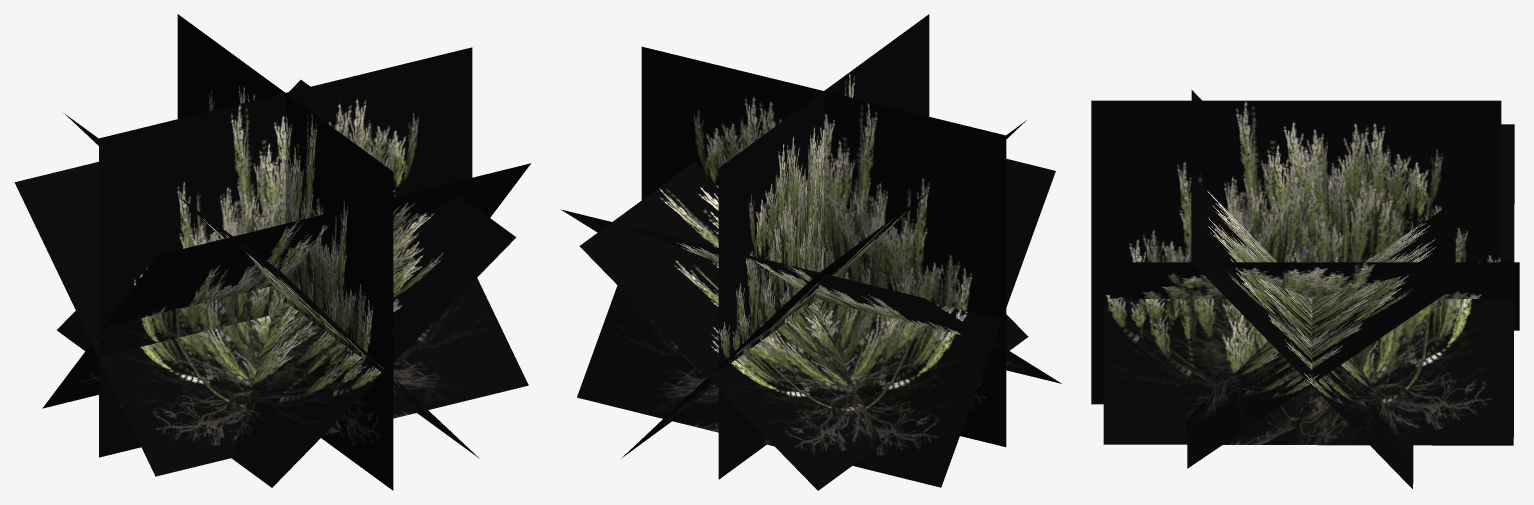
File: shrub.fbx
The picture shows the model from 3 angles, left to right: view 1: azimuth 30°, elevation 25°; view 2: azimuth 150°, elevation 25°; view 3: azimuth 270°, elevation 25°; orthographic projection. The views are drawn at different scales.
Parts seen in each view (by area): view 1: pngwing.com.003; view 2: pngwing.com.003; view 3: pngwing.com.003.
Boxes of the visible parts, bbox=[...] form: pngwing.com.003: bbox=[14, 14, 530, 490]; pngwing.com.003: bbox=[561, 14, 1061, 490]; pngwing.com.003: bbox=[1091, 90, 1519, 488].
Size of the model in its own units: 124 by 100 by 128.
Materials: 1 (1 with a texture image).
